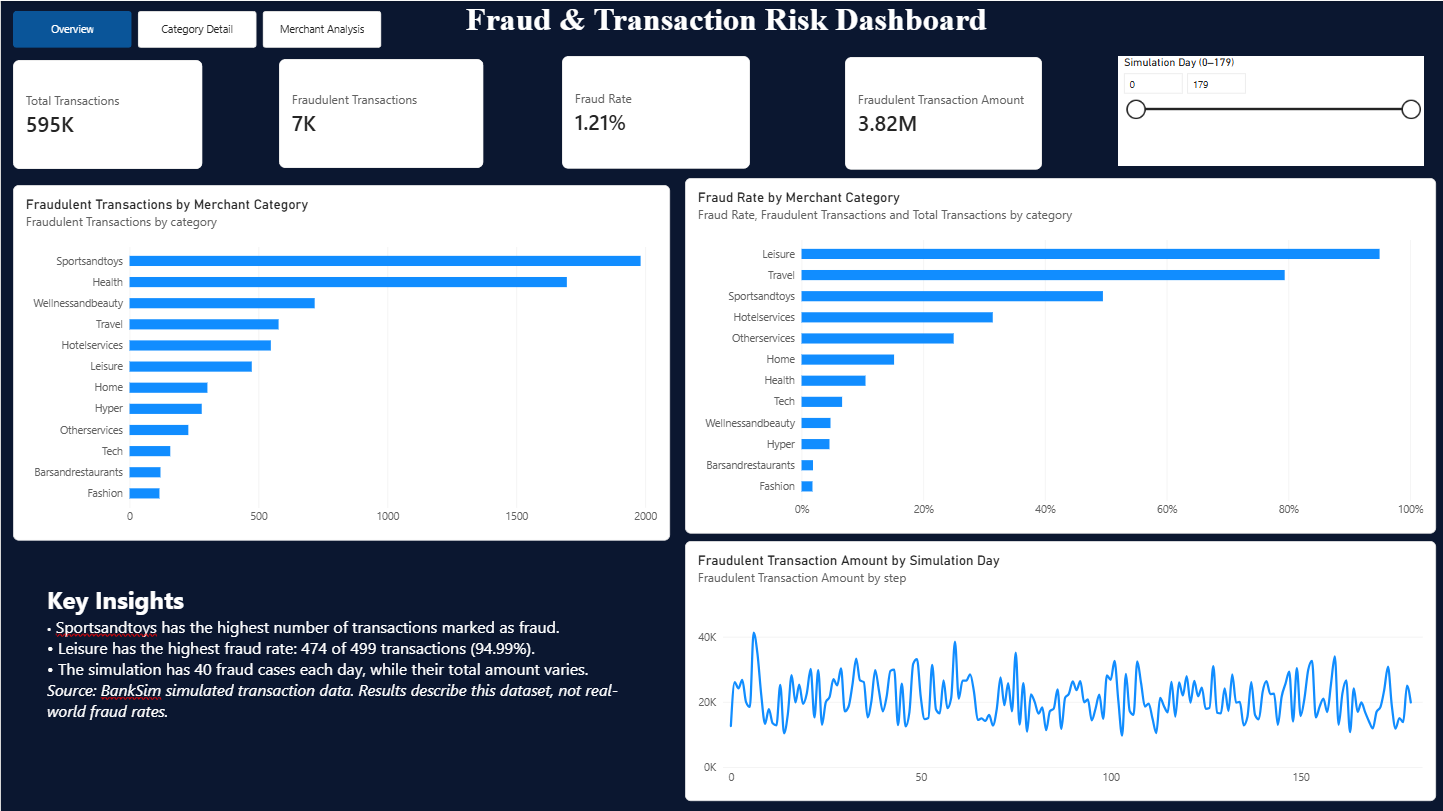

What the dashboard file says about the page in this screenshot:
{"tool":"powerbi","page":{"name":"Overview","canvas":[1920,1080],"ordinal":0},"visuals":[{"type":"cardVisual","fields":{"Data":["bs140513_032310.Total Transactions"]},"box":[16,78.8,252.4,145.9],"z":0},{"type":"cardVisual","fields":{"Data":["bs140513_032310.Fraudulent Transactions"]},"box":[369.1,77.3,272.8,145.9],"z":1},{"type":"cardVisual","fields":{"Data":["bs140513_032310.Fraud Rate"]},"box":[745.5,72.9,250.9,150.3],"z":2},{"type":"cardVisual","fields":{"Data":["bs140513_032310.Fraudulent Transaction Amount"]},"box":[1121.9,74.4,262.6,150.3],"z":3},{"type":"clusteredBarChart","title":"Fraudulent Transactions by Merchant Category","fields":{"Category":["bs140513_032310.category"],"Y":["bs140513_032310.Fraudulent Transactions"]},"box":[16,245.1,873.9,472.7],"z":4},{"type":"clusteredBarChart","title":"Fraud Rate by Merchant Category","fields":{"Category":["bs140513_032310.category"],"Y":["bs140513_032310.Fraud Rate"]},"box":[910.4,234.9,999.4,472.7],"z":5},{"type":"lineChart","title":"Fraudulent Transaction Amount by Simulation Day","fields":{"Category":["bs140513_032310.step"],"Y":["bs140513_032310.Fraudulent Transaction Amount"]},"box":[910.4,717.8,999.4,345.8],"z":6},{"type":"slicer","fields":{"Values":["bs140513_032310.step"]},"box":[1485.2,72.9,405.6,145.9],"z":7},{"type":"textbox","box":[0,0,1920,62.7],"z":8},{"type":"textbox","box":[61.3,774.7,760.1,265.5],"z":9},{"type":"pageNavigator","box":[16,13.1,490.2,49.6],"z":10}]}

Visuals, with their boxes in screenshot pixels (x1, y1, x2, y2), scaled from the page's 1920x1080 canvas onto the 1443x811 screenshot:
cardVisual - bs140513_032310.Total Transactions: [left=12, top=59, right=202, bottom=169]
cardVisual - bs140513_032310.Fraudulent Transactions: [left=277, top=58, right=482, bottom=168]
cardVisual - bs140513_032310.Fraud Rate: [left=560, top=55, right=749, bottom=168]
cardVisual - bs140513_032310.Fraudulent Transaction Amount: [left=843, top=56, right=1041, bottom=169]
"Fraudulent Transactions by Merchant Category" clusteredBarChart: [left=12, top=184, right=669, bottom=539]
"Fraud Rate by Merchant Category" clusteredBarChart: [left=684, top=176, right=1435, bottom=531]
"Fraudulent Transaction Amount by Simulation Day" lineChart: [left=684, top=539, right=1435, bottom=799]
slicer - bs140513_032310.step: [left=1116, top=55, right=1421, bottom=164]
textbox: [left=0, top=0, right=1442, bottom=47]
textbox: [left=46, top=582, right=617, bottom=781]
pageNavigator: [left=12, top=10, right=380, bottom=47]
